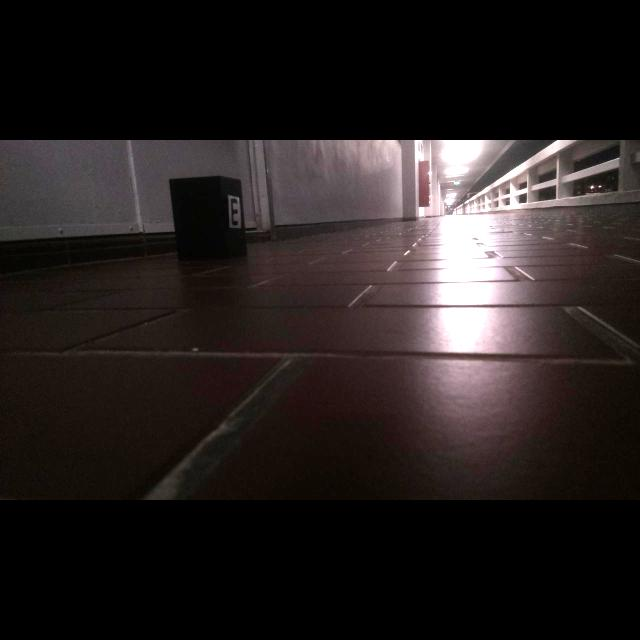E: (231, 198, 239, 226)
